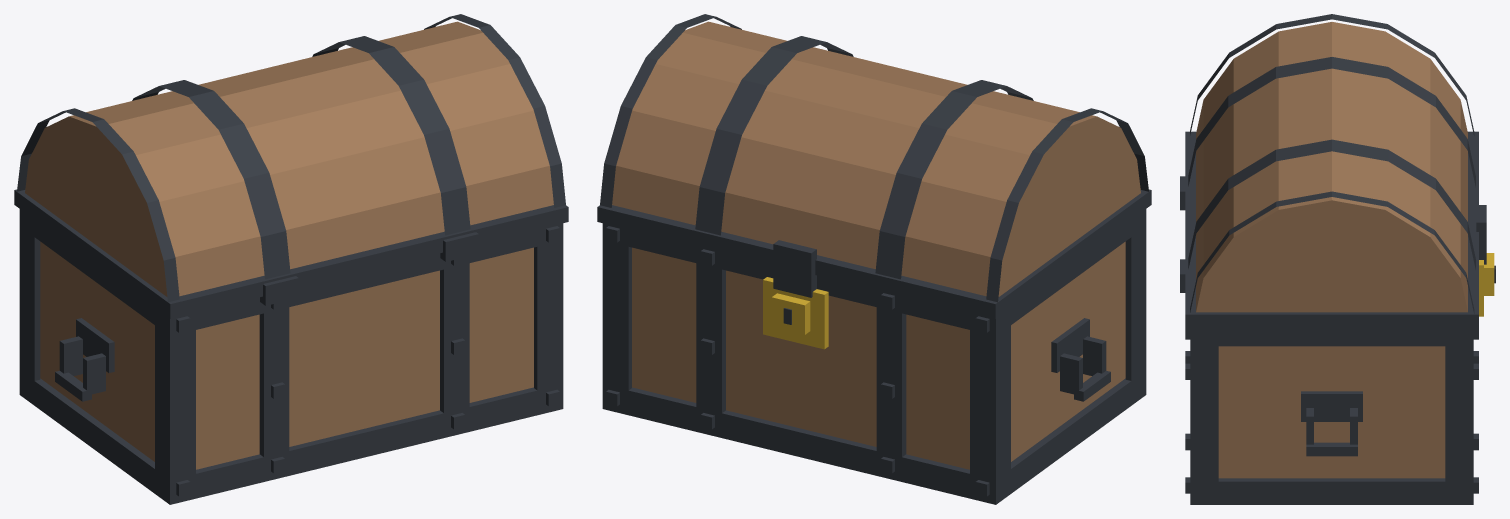
Rendered from Chest.fbx.
3 views of the same model, side by side, from view 1: azimuth 30°, elevation 25°; view 2: azimuth 150°, elevation 25°; view 3: azimuth 270°, elevation 25° (orthographic). The views are drawn at different scales.
Parts seen in each view (by area): view 1: Chest; view 2: Chest; view 3: Chest.
Part boxes in pixels (left/top/right/bottom): Chest: left=14, top=14, right=568, bottom=504; Chest: left=597, top=14, right=1151, bottom=504; Chest: left=1180, top=14, right=1495, bottom=504.
Bounding box in the file's own units: 94 × 66.5 × 61.3.
